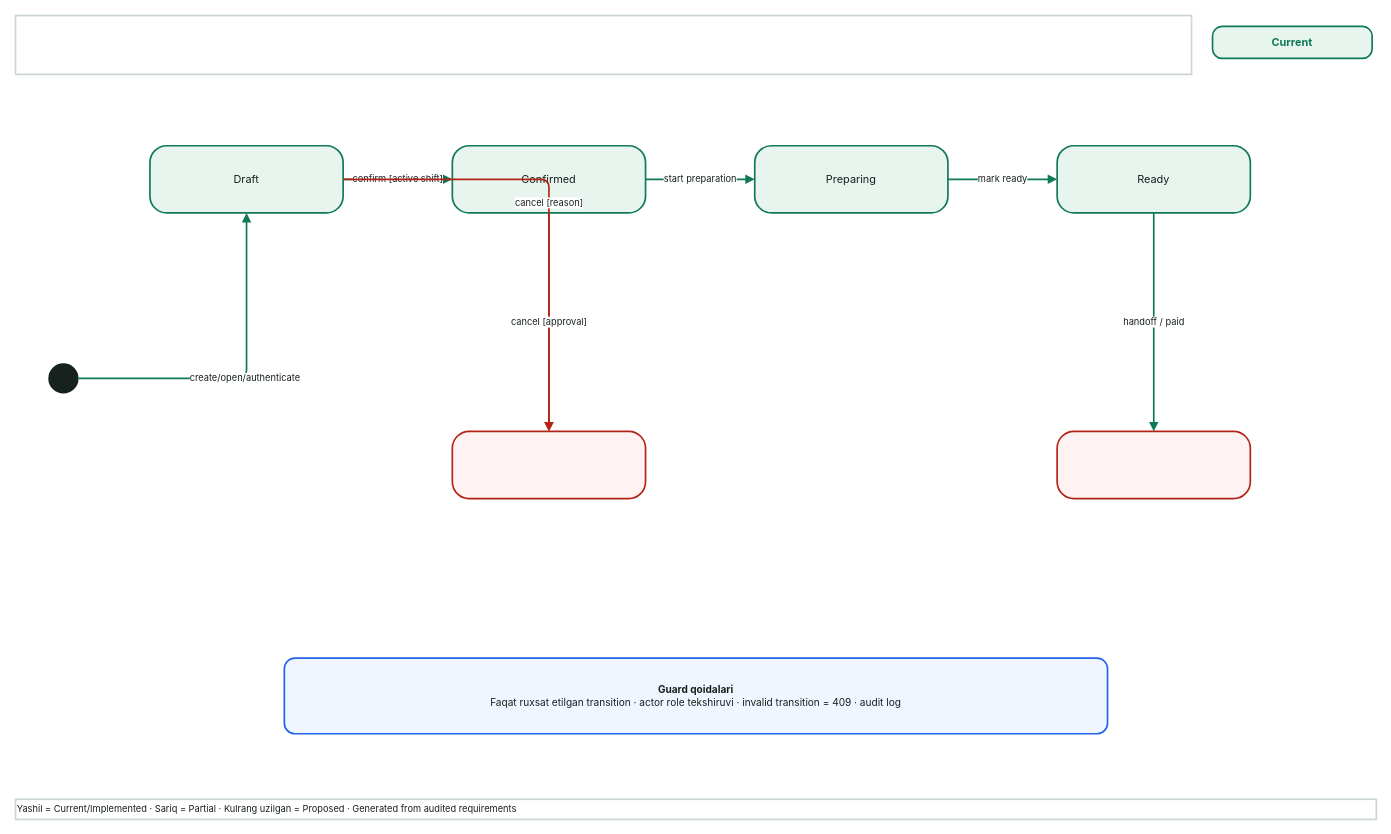
This 1391x834 diagram has some shape labels left out. The shapes that lost their labels are listed below. From the top down, each one's centre as x and y in pixels, then its label:
At point 603,44: "D16 · Order State Machine UML State Machine · osonCafe SDLC".
At point 548,464: "Cancelled".
At point 1153,464: "Completed".
